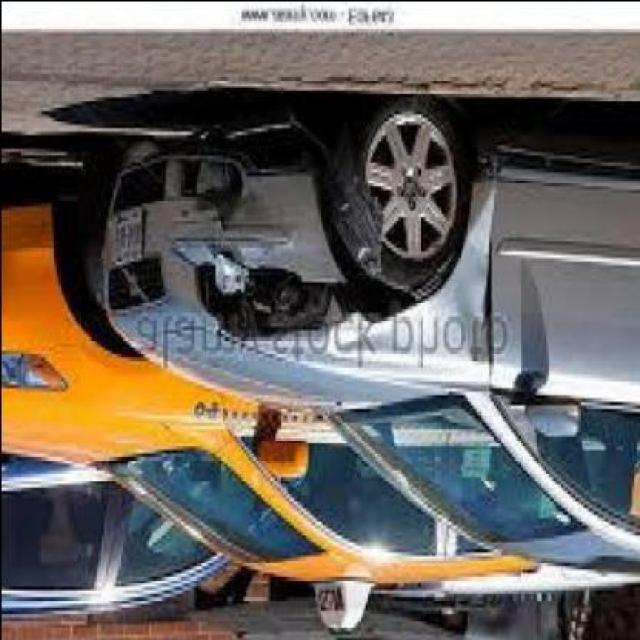damage: (154, 137, 496, 384)
